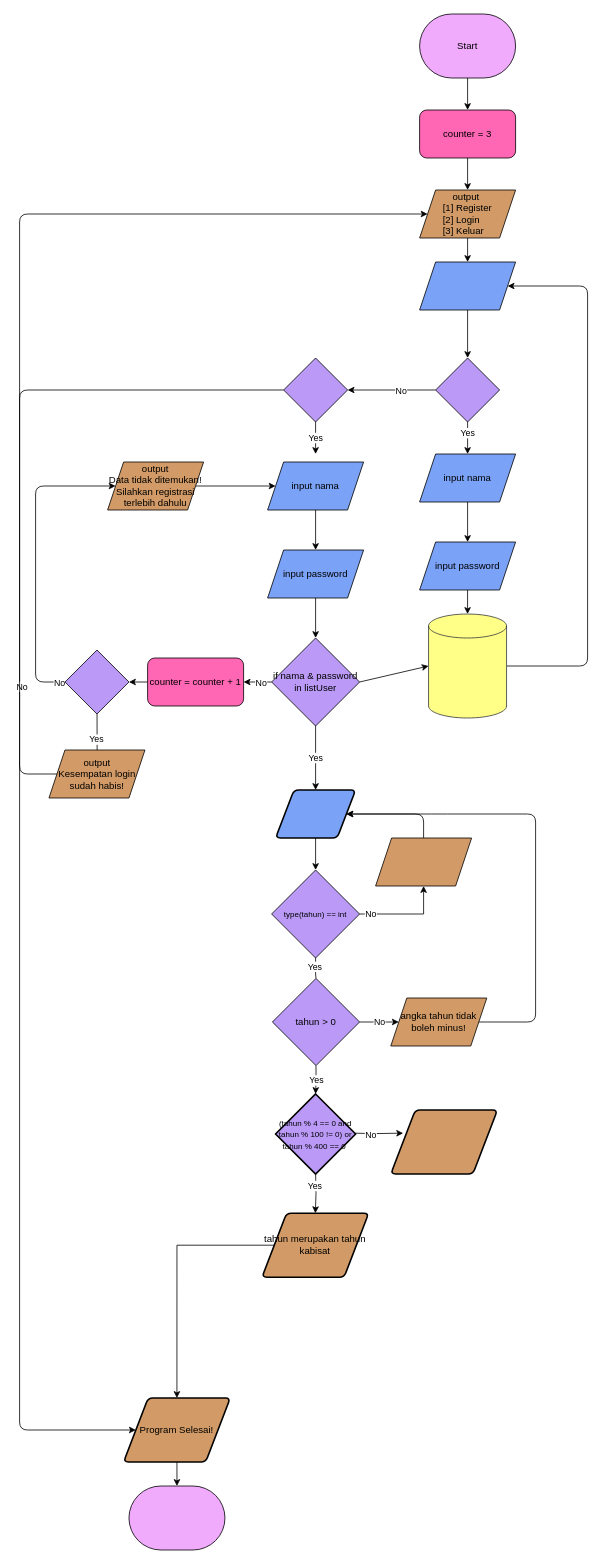
Some shapes in this 608 by 1564 pixel diagram are drawn without their labels. The centre of each missing label's shape, as x and y in pixels:
"End" belongs at (176,1517).
"if choice == '1'" belongs at (467,389).
"if choise == '2'" belongs at (315,389).
"if counter == 3" belongs at (96,681).
"input choice" belongs at (467,285).
"Input tahun" belongs at (315,813).
"Inputan harus berupa bilangan bulat (tahun)!" belongs at (423,861).
"listUser = {}" belongs at (467,665).
"tahun bukan merupakan tahun kabisat" belongs at (444,1141).
